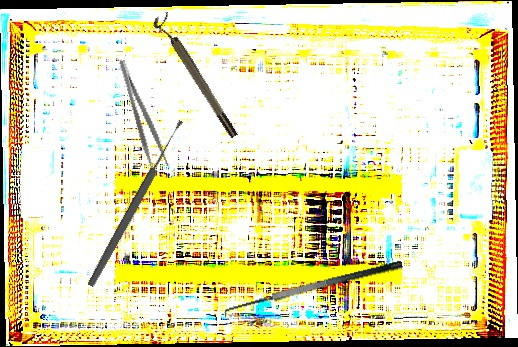Dressing Forceps: (116, 56, 170, 172)
Fixation Ring: (150, 11, 241, 143)
Spatula Surgical: (221, 258, 407, 326)
Surgical Spoon: (85, 118, 187, 289)
